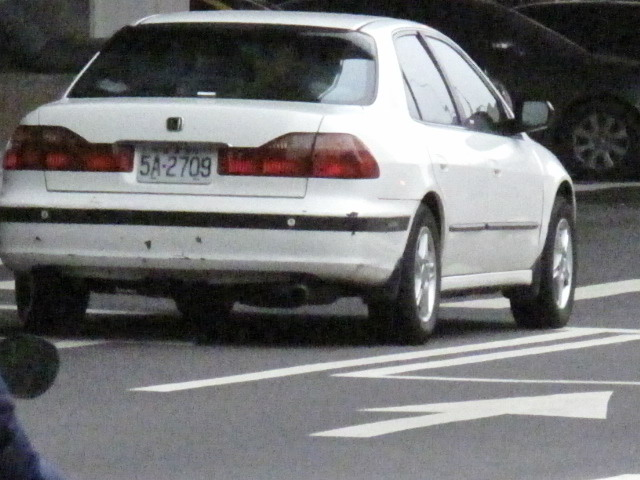plate: (136, 144, 214, 187)
